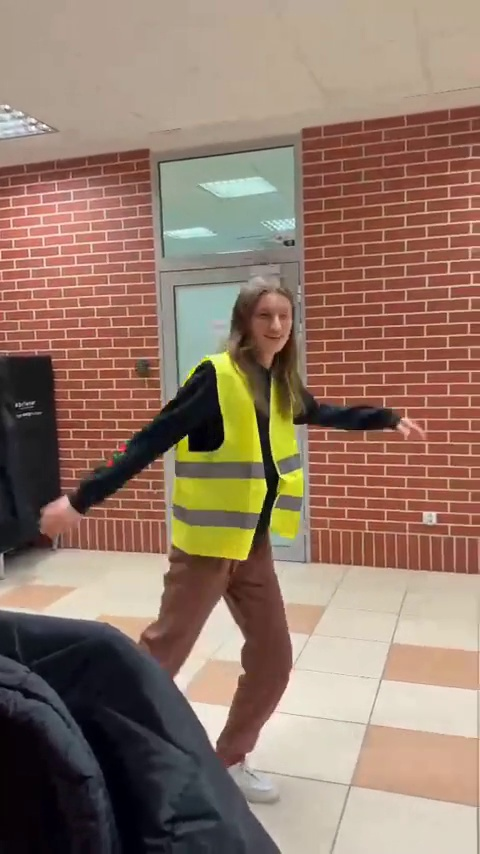vest: (165, 268, 341, 807)
